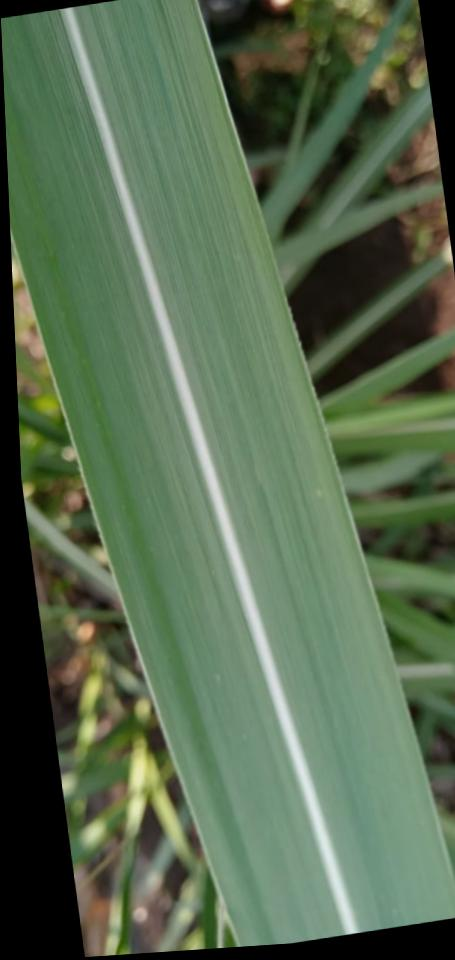Healthy: (74, 0, 455, 933), (1, 9, 341, 947)
